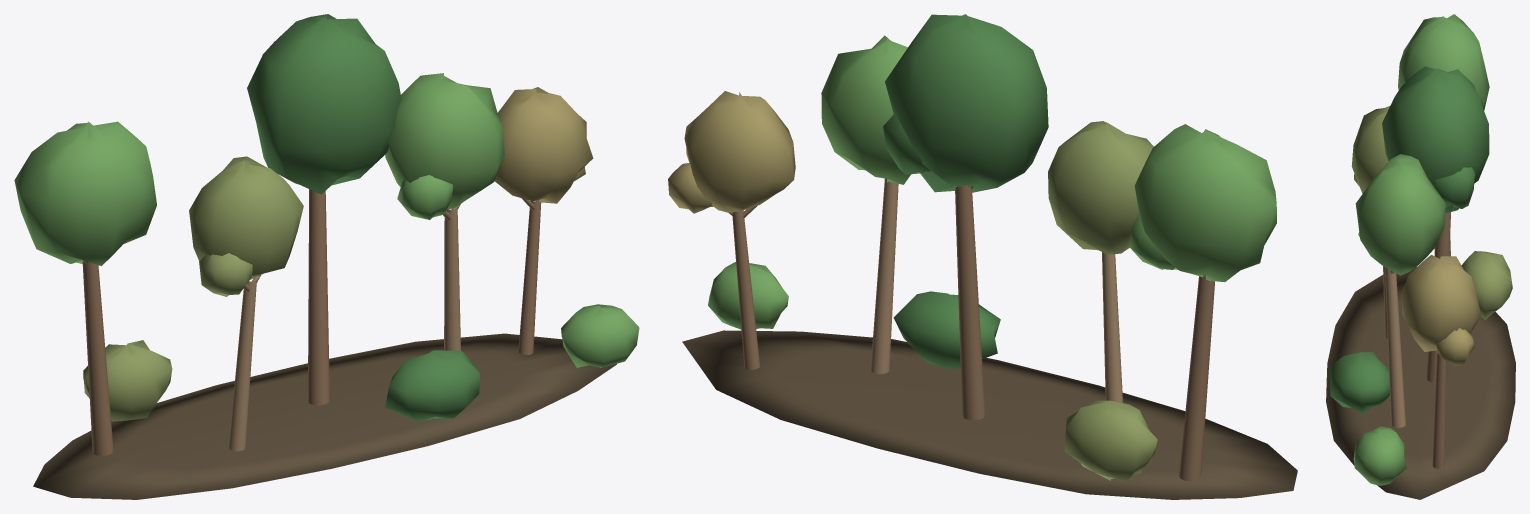
File: tree_cluster.glb
The picture shows the model from 3 angles, left to right: view 1: azimuth 30°, elevation 25°; view 2: azimuth 150°, elevation 25°; view 3: azimuth 270°, elevation 25°; orthographic projection. The views are drawn at different scales.
Visible parts, largest first — view 1: tree_cluster_irregular_soil_ground_contact_pad, tree_cluster_individual_leaf_crown_3_separated, tree_cluster_individual_leaf_crown_1_separated, tree_cluster_individual_leaf_crown_4_separated, tree_cluster_individual_leaf_crown_2_separated, tree_cluster_individual_leaf_crown_5_separated, tree_cluster_low_shrub_mound_center_gap_visible, tree_cluster_low_shrub_mound_left, tree_cluster_separated_visible_trunk_3, tree_cluster_low_shrub_mound_right, tree_cluster_separated_visible_trunk_1, tree_cluster_separated_visible_trunk_2 (+4 smaller); view 2: tree_cluster_irregular_soil_ground_contact_pad, tree_cluster_individual_leaf_crown_3_separated, tree_cluster_individual_leaf_crown_1_separated, tree_cluster_individual_leaf_crown_5_separated, tree_cluster_individual_leaf_crown_2_separated, tree_cluster_individual_leaf_crown_4_separated, tree_cluster_low_shrub_mound_left, tree_cluster_separated_visible_trunk_3, tree_cluster_low_shrub_mound_center_gap_visible, tree_cluster_separated_visible_trunk_1, tree_cluster_separated_visible_trunk_4, tree_cluster_low_shrub_mound_right (+5 smaller); view 3: tree_cluster_irregular_soil_ground_contact_pad, tree_cluster_individual_leaf_crown_3_separated, tree_cluster_individual_leaf_crown_4_separated, tree_cluster_individual_leaf_crown_5_separated, tree_cluster_individual_leaf_crown_1_separated, tree_cluster_low_shrub_mound_center_gap_visible, tree_cluster_low_shrub_mound_right, tree_cluster_low_shrub_mound_left, tree_cluster_separated_visible_trunk_4, tree_cluster_individual_leaf_crown_2_separated, tree_cluster_separated_visible_trunk_5, tree_cluster_offset_side_leaf_lobe_3_not_merged (+3 smaller).
Boxes of the visible parts, x1,y1,x2,y2 form: tree_cluster_irregular_soil_ground_contact_pad: [33, 333, 616, 499]; tree_cluster_individual_leaf_crown_3_separated: [247, 14, 401, 194]; tree_cluster_individual_leaf_crown_1_separated: [14, 121, 156, 265]; tree_cluster_individual_leaf_crown_4_separated: [385, 73, 504, 209]; tree_cluster_individual_leaf_crown_2_separated: [189, 156, 303, 279]; tree_cluster_individual_leaf_crown_5_separated: [495, 87, 593, 203]; tree_cluster_low_shrub_mound_center_gap_visible: [385, 350, 480, 421]; tree_cluster_low_shrub_mound_left: [83, 340, 172, 421]; tree_cluster_separated_visible_trunk_3: [308, 189, 329, 405]; tree_cluster_low_shrub_mound_right: [561, 304, 639, 367]; tree_cluster_separated_visible_trunk_1: [82, 261, 113, 455]; tree_cluster_separated_visible_trunk_2: [228, 280, 256, 451]; tree_cluster_irregular_soil_ground_contact_pad: [682, 330, 1297, 499]; tree_cluster_individual_leaf_crown_3_separated: [885, 14, 1048, 192]; tree_cluster_individual_leaf_crown_1_separated: [1134, 124, 1276, 281]; tree_cluster_individual_leaf_crown_5_separated: [684, 91, 795, 212]; tree_cluster_individual_leaf_crown_2_separated: [1048, 121, 1153, 254]; tree_cluster_individual_leaf_crown_4_separated: [821, 35, 910, 184]; tree_cluster_low_shrub_mound_left: [1064, 400, 1157, 481]; tree_cluster_separated_visible_trunk_3: [955, 185, 985, 420]; tree_cluster_low_shrub_mound_center_gap_visible: [893, 291, 1000, 368]; tree_cluster_separated_visible_trunk_1: [1179, 275, 1214, 481]; tree_cluster_separated_visible_trunk_4: [870, 178, 898, 374]; tree_cluster_low_shrub_mound_right: [708, 262, 788, 329]; tree_cluster_irregular_soil_ground_contact_pad: [1326, 267, 1515, 499]; tree_cluster_individual_leaf_crown_3_separated: [1382, 66, 1489, 213]; tree_cluster_individual_leaf_crown_4_separated: [1355, 154, 1445, 275]; tree_cluster_individual_leaf_crown_5_separated: [1401, 255, 1481, 351]; tree_cluster_individual_leaf_crown_1_separated: [1398, 14, 1489, 110]; tree_cluster_low_shrub_mound_center_gap_visible: [1330, 351, 1389, 414]; tree_cluster_low_shrub_mound_right: [1353, 426, 1406, 485]; tree_cluster_low_shrub_mound_left: [1461, 251, 1512, 319]; tree_cluster_separated_visible_trunk_4: [1385, 267, 1405, 427]; tree_cluster_individual_leaf_crown_2_separated: [1351, 106, 1389, 193]; tree_cluster_separated_visible_trunk_5: [1432, 353, 1446, 468]; tree_cluster_offset_side_leaf_lobe_3_not_merged: [1435, 167, 1474, 208].
Bounding box in the file's own units: 6.66 × 4.32 × 2.29.
